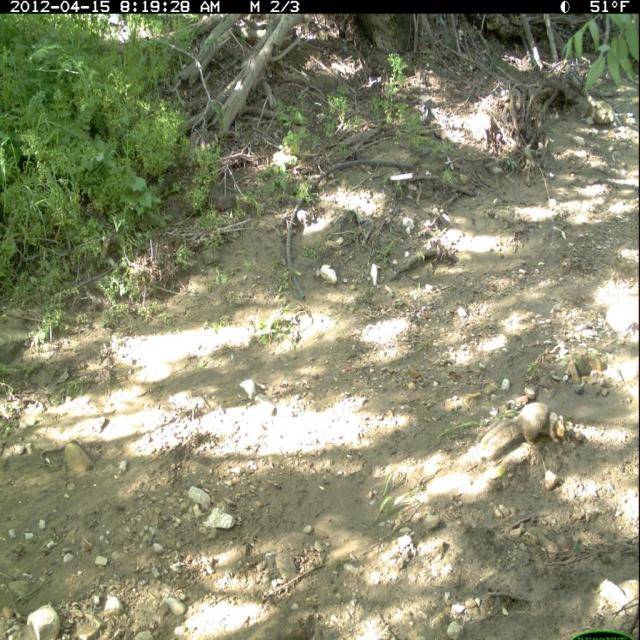squirrel: (478, 398, 571, 458)
